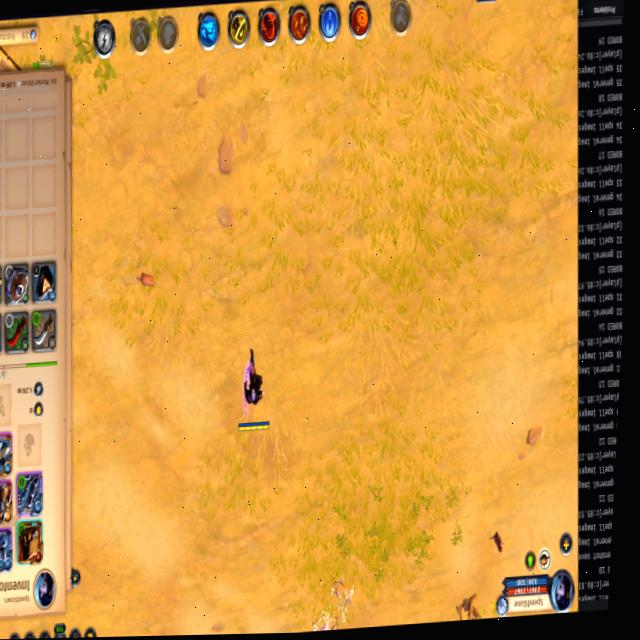mob: (327, 570, 358, 614), (309, 609, 345, 632)
red: (231, 341, 278, 437)
